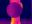Hotspot: (11, 17, 15, 23)
